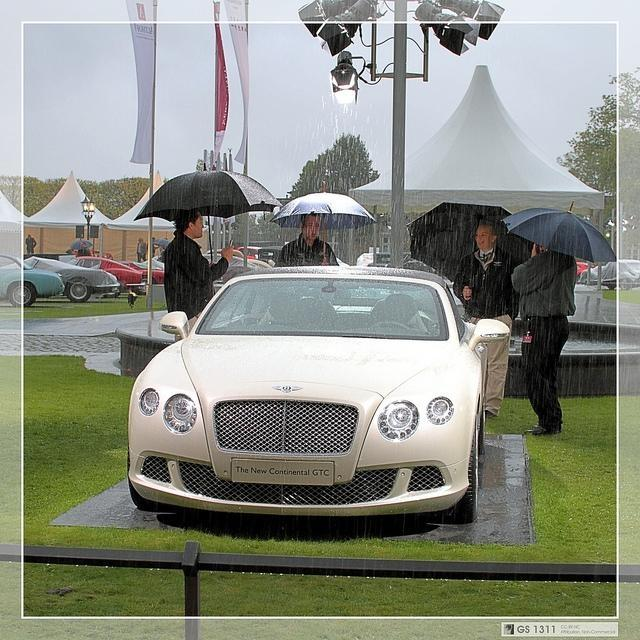car: (126, 264, 510, 530), (25, 256, 120, 300), (1, 254, 64, 306), (68, 252, 150, 284), (201, 253, 256, 280), (601, 260, 640, 292), (142, 254, 165, 284), (238, 246, 262, 260), (584, 266, 604, 278), (576, 262, 588, 278)
